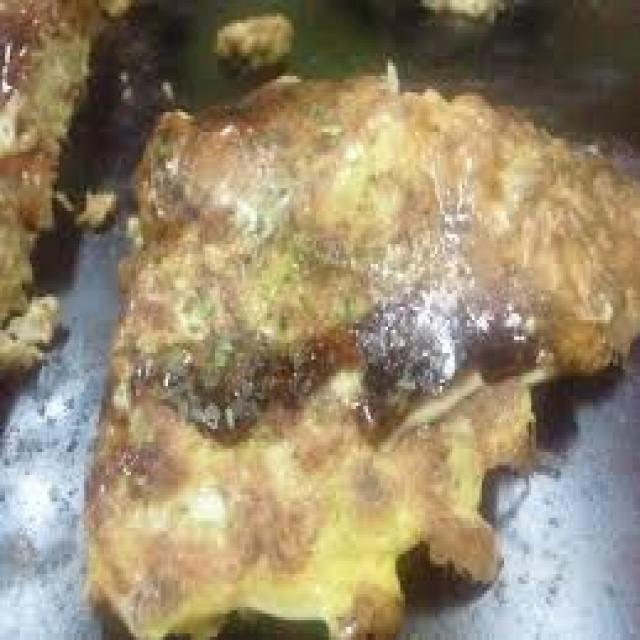organic waste: (82, 69, 638, 637), (0, 0, 128, 369), (213, 13, 289, 66), (72, 185, 118, 228), (418, 0, 507, 20)
